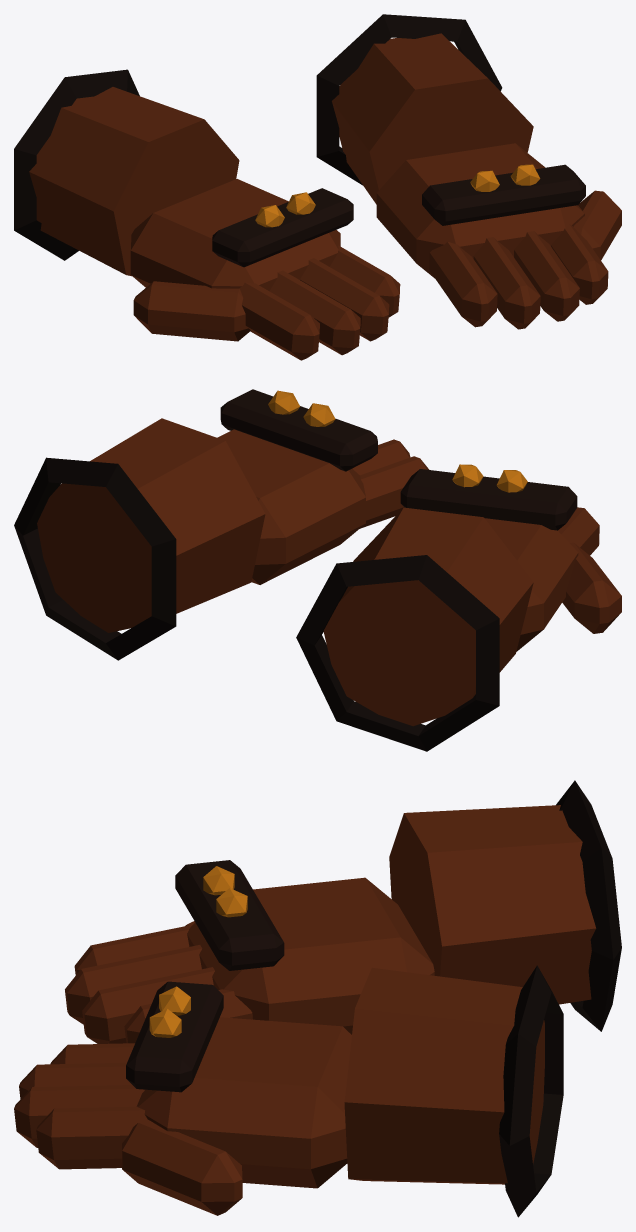
Rendered from Item_LeatherGloves.fbx.
3 renders of one model, top to bottom at view 1: azimuth 30°, elevation 25°; view 2: azimuth 150°, elevation 25°; view 3: azimuth 270°, elevation 25°, orthographic. The views are drawn at different scales.
Parts seen in each view (by area): view 1: Item_LeatherGloves; view 2: Item_LeatherGloves; view 3: Item_LeatherGloves.
Part boxes in pixels (left/top/right/bottom): Item_LeatherGloves: left=14, top=14, right=621, bottom=360; Item_LeatherGloves: left=14, top=389, right=621, bottom=751; Item_LeatherGloves: left=14, top=780, right=621, bottom=1217.
Size of the model in its own units: 0.3034 by 0.1131 by 0.2713.
